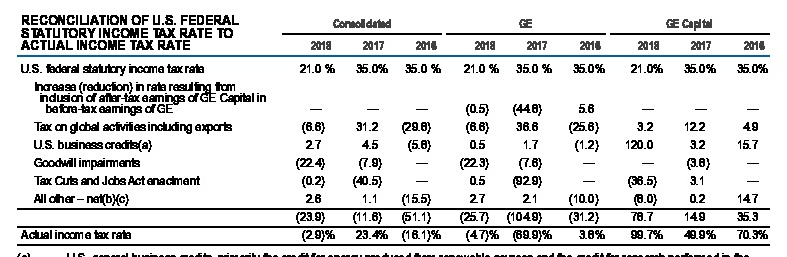table: (0, 0, 787, 257)
